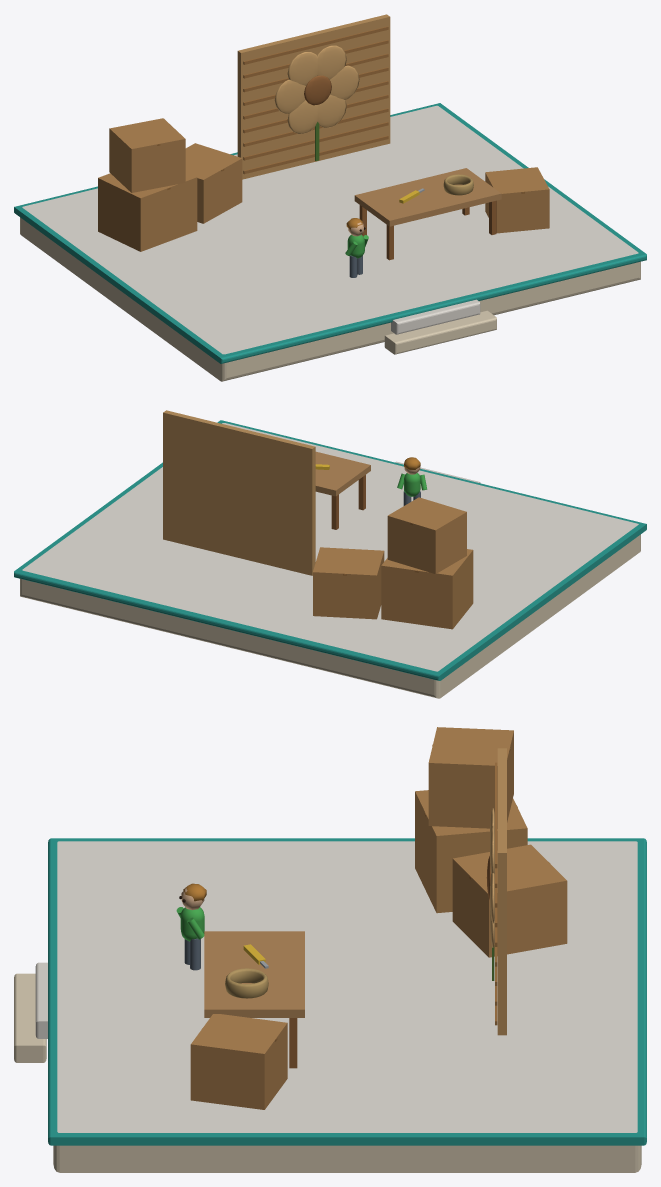
The model's file is cardboardWorkshop.glb.
3 renders of one model, top to bottom at view 1: azimuth 30°, elevation 25°; view 2: azimuth 150°, elevation 25°; view 3: azimuth 270°, elevation 25°, orthographic. The views are drawn at different scales.
Visible parts, largest first — view 1: part_000; view 2: part_000; view 3: part_000.
Part boxes in pixels (x1,y1,x2,y2): part_000: (14, 14, 646, 381); part_000: (14, 410, 646, 698); part_000: (14, 727, 646, 1172).
Size of the model in its own units: 9.14 by 3.6 by 8.18.
